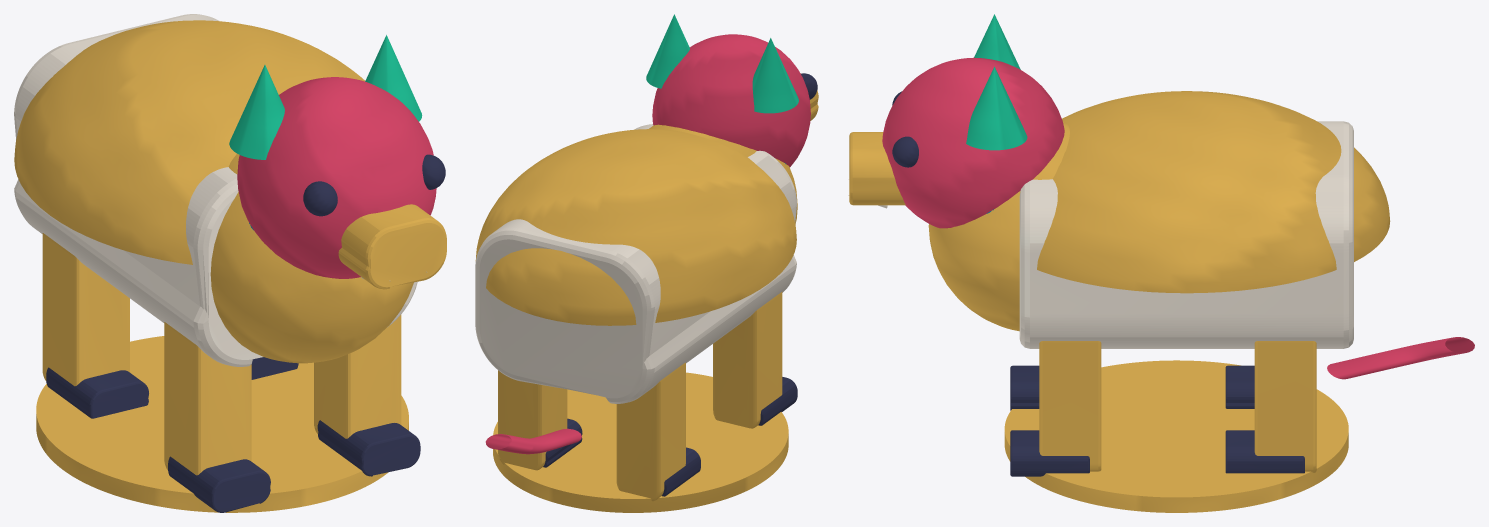
File: 0838_两栖动物图鉴_科罗拉多河蟾蜍.glb
3 views of the same model, side by side, from view 1: azimuth 30°, elevation 25°; view 2: azimuth 150°, elevation 25°; view 3: azimuth 270°, elevation 25° (orthographic). The views are drawn at different scales.
Visible parts, largest first — view 1: card_0838; view 2: card_0838; view 3: card_0838.
Boxes of the visible parts, x1=… form: card_0838: x1=14, y1=14, x2=446, y2=512; card_0838: x1=475, y1=14, x2=818, y2=512; card_0838: x1=848, y1=14, x2=1474, y2=512.
Bounding box in the file's own units: 0.7623 × 1 × 1.41.
